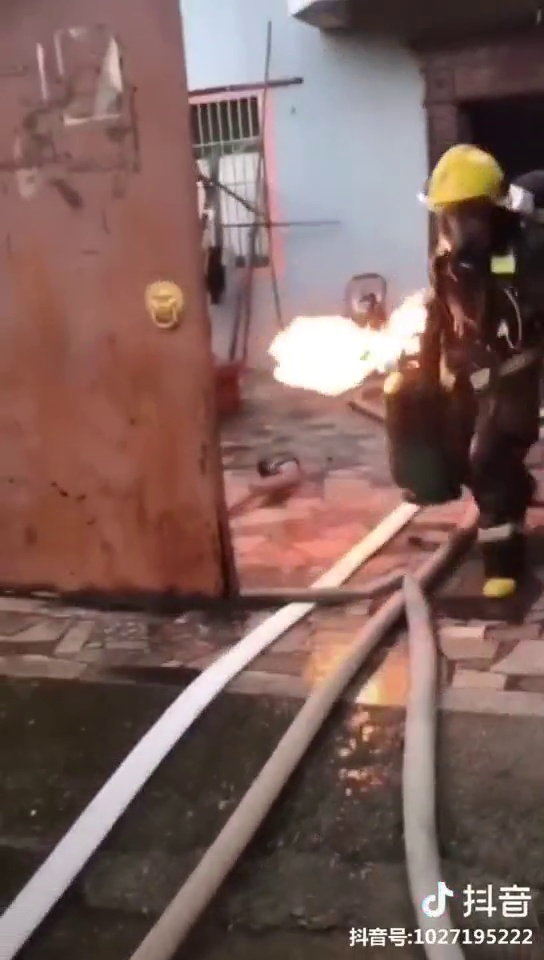fire: (243, 285, 413, 402)
